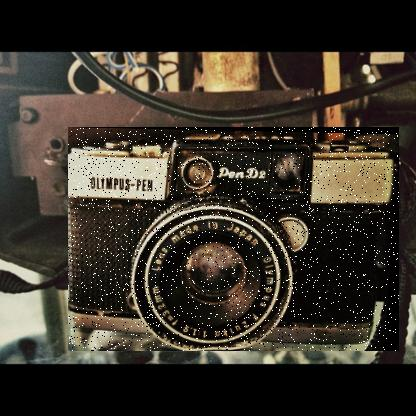Camera: (69, 128, 401, 353)
